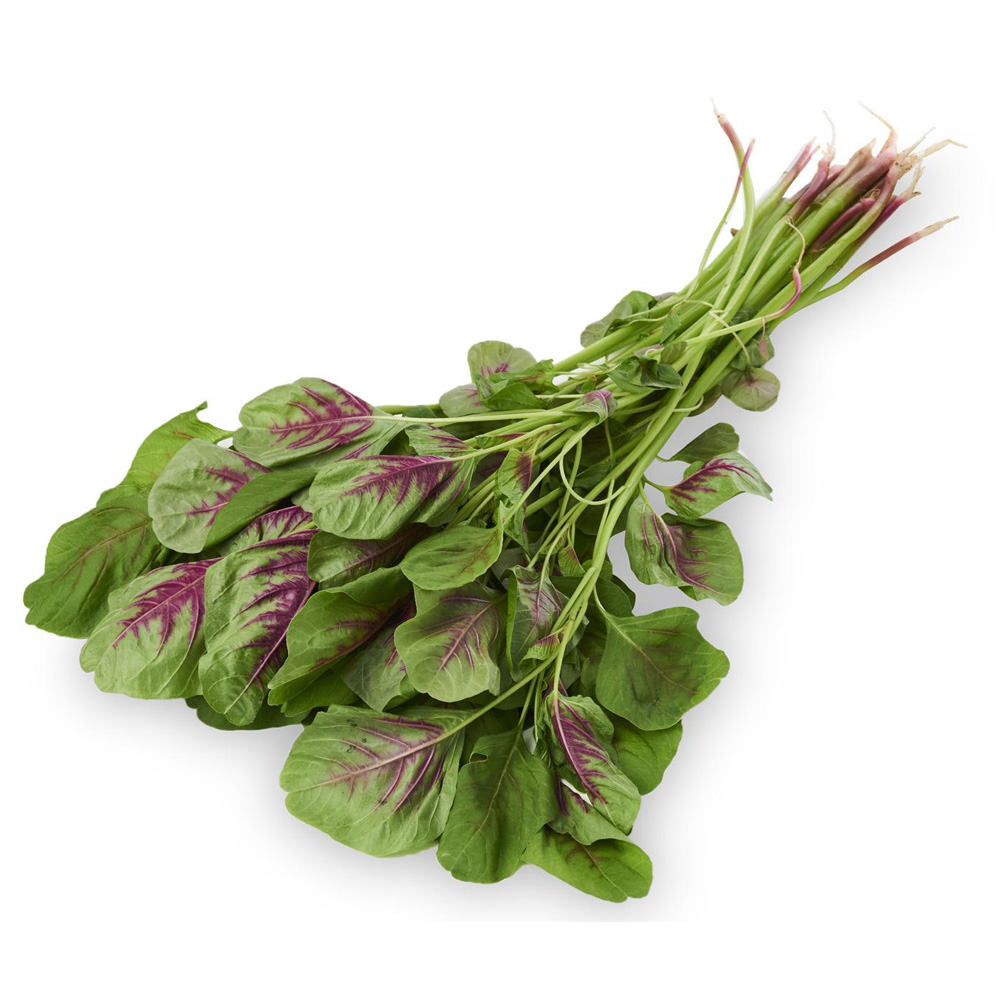Bayam: (76, 105, 953, 955)
